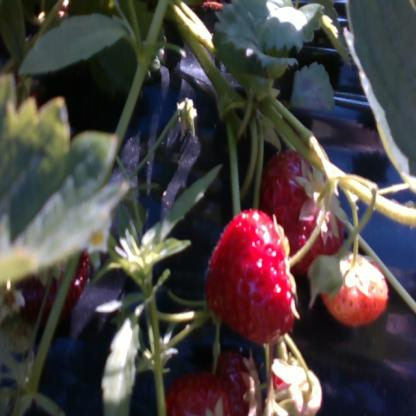ripe: (200, 212, 304, 346), (264, 150, 339, 254), (324, 259, 386, 327), (218, 356, 262, 416), (162, 379, 233, 414)
